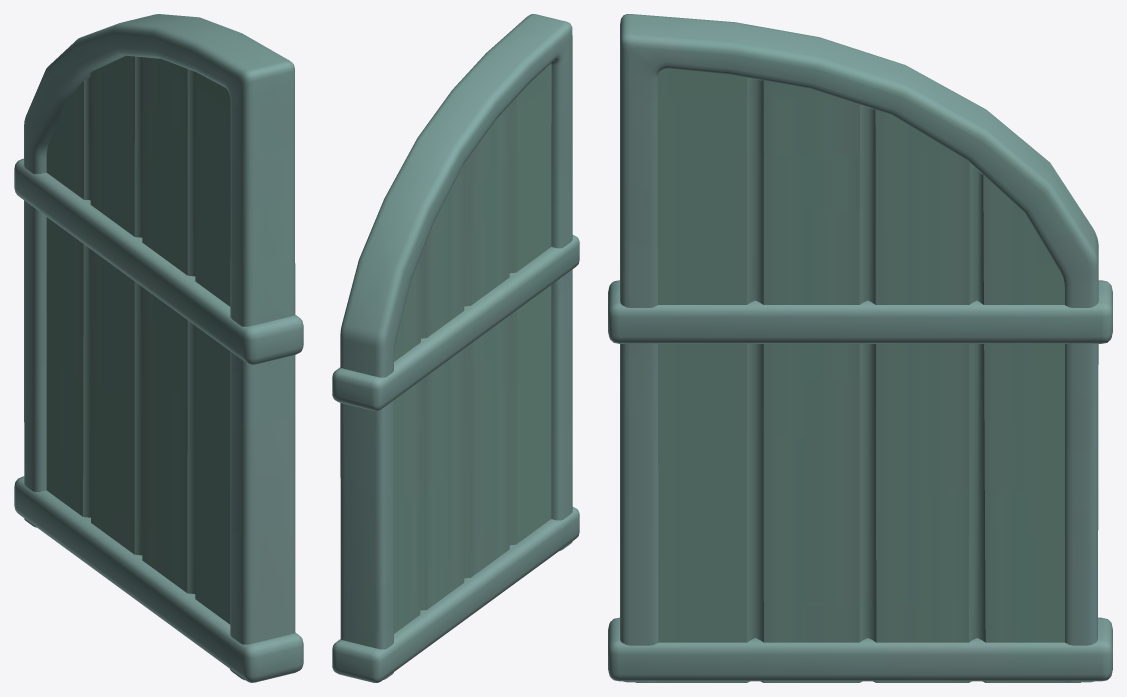
File: Men.FBX
3 views of the same model, side by side, from view 1: azimuth 30°, elevation 25°; view 2: azimuth 150°, elevation 25°; view 3: azimuth 270°, elevation 25° (orthographic). The views are drawn at different scales.
Parts seen in each view (by area): view 1: Men; view 2: Men; view 3: Men.
Boxes of the visible parts, x1,y1,x2,y2 form: Men: (14,14,303,682); Men: (332,14,579,682); Men: (608,14,1112,682).
Bounding box in the file's own units: 27.76 × 277 × 196.
